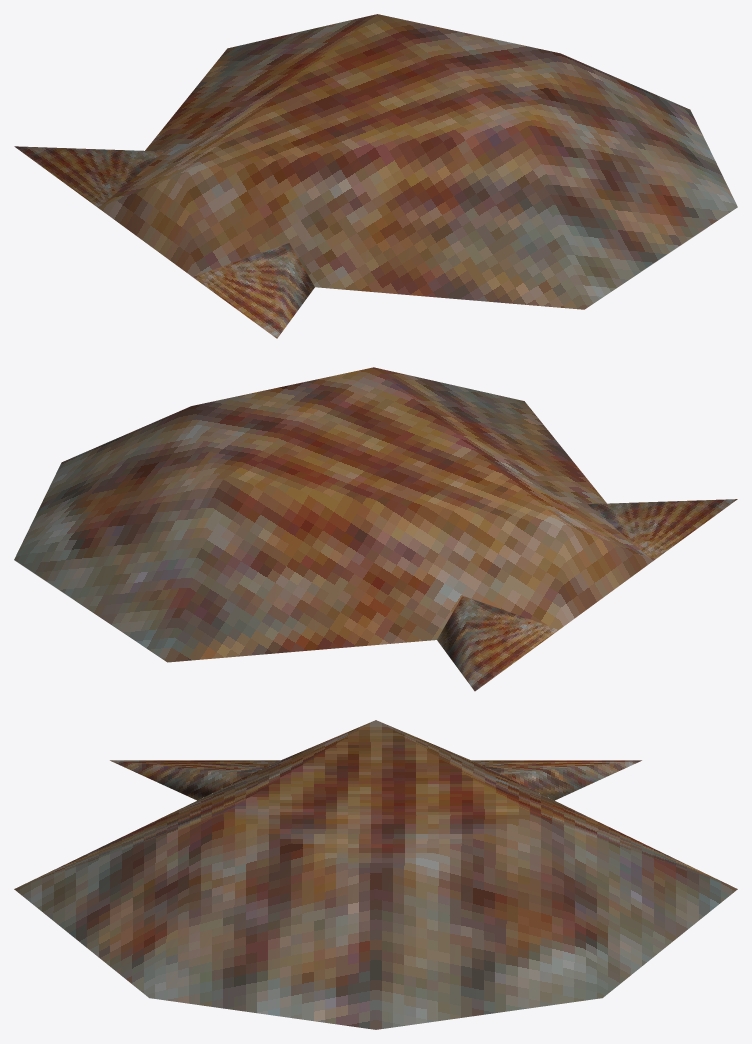
The model's file is KEDSHELL1_ACTORDEF.fbx.
3 views of the same model, one above another, from view 1: azimuth 30°, elevation 25°; view 2: azimuth 150°, elevation 25°; view 3: azimuth 270°, elevation 25° (orthographic).
Parts seen in each view (by area): view 1: U3DMesh; view 2: U3DMesh; view 3: U3DMesh.
Boxes of the visible parts, x1,y1,x2,y2 form: U3DMesh: (14, 14, 737, 338); U3DMesh: (14, 367, 737, 691); U3DMesh: (14, 720, 737, 1029).
Bounding box in the file's own units: 3.35 × 0.5668 × 3.8.
